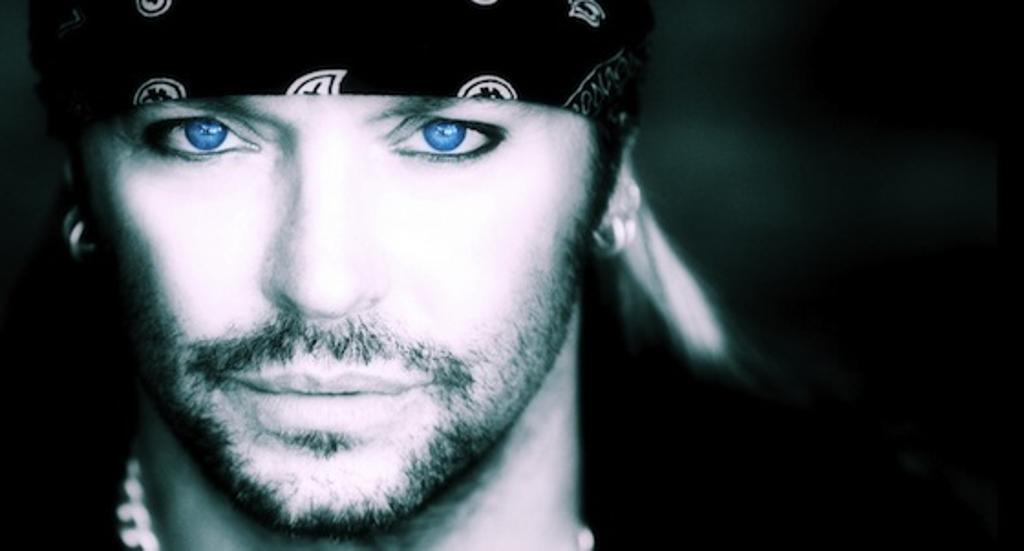face: (105, 11, 587, 519)
